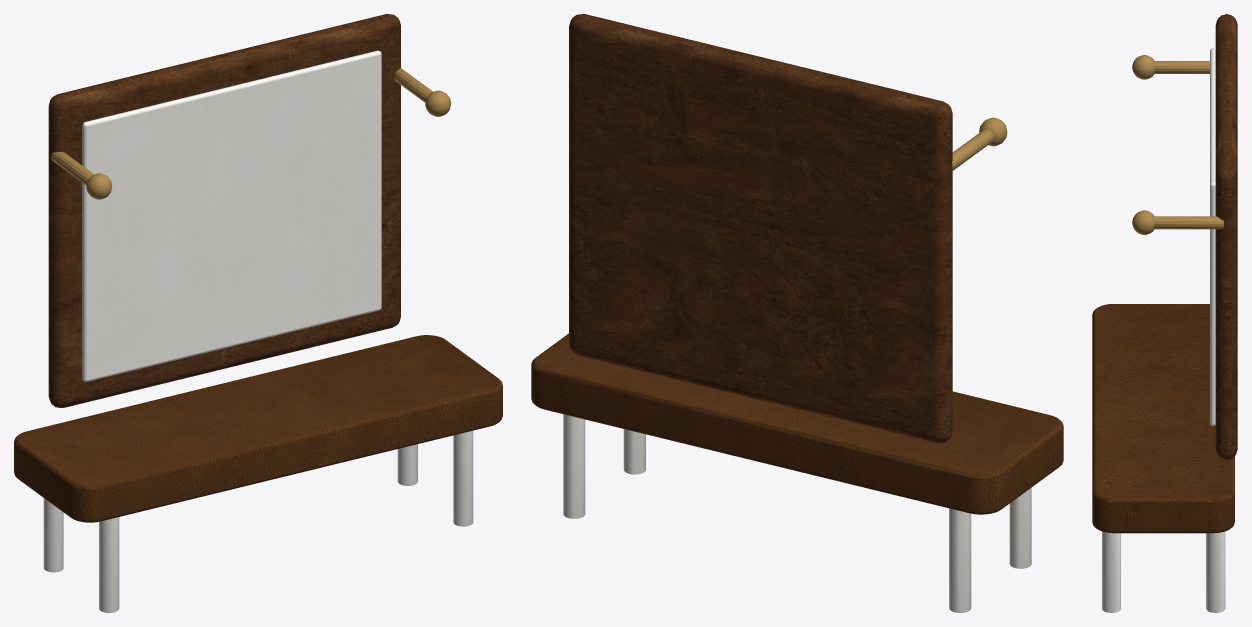
File: willow_fitting_bench.glb
3 renders of one model, left to right at view 1: azimuth 30°, elevation 25°; view 2: azimuth 150°, elevation 25°; view 3: azimuth 270°, elevation 25°, orthographic. The views are drawn at different scales.
Parts seen in each view (by area): view 1: willow_fitting_bench_willow_blackened_steel_pbr, willow_fitting_bench_willow_brown_leather_pbr, willow_fitting_bench_willow_dark_oak_pbr, willow_fitting_bench_willow_aged_brass_pbr; view 2: willow_fitting_bench_willow_dark_oak_pbr, willow_fitting_bench_willow_brown_leather_pbr, willow_fitting_bench_willow_blackened_steel_pbr, willow_fitting_bench_willow_aged_brass_pbr; view 3: willow_fitting_bench_willow_brown_leather_pbr, willow_fitting_bench_willow_dark_oak_pbr, willow_fitting_bench_willow_blackened_steel_pbr, willow_fitting_bench_willow_aged_brass_pbr.
Part boxes in pixels (x1=…): willow_fitting_bench_willow_blackened_steel_pbr: x1=43, y1=50, x2=473, y2=612; willow_fitting_bench_willow_brown_leather_pbr: x1=14, y1=335, x2=502, y2=522; willow_fitting_bench_willow_dark_oak_pbr: x1=48, y1=14, x2=400, y2=407; willow_fitting_bench_willow_aged_brass_pbr: x1=51, y1=68, x2=451, y2=199; willow_fitting_bench_willow_dark_oak_pbr: x1=569, y1=14, x2=952, y2=443; willow_fitting_bench_willow_brown_leather_pbr: x1=531, y1=333, x2=1063, y2=514; willow_fitting_bench_willow_blackened_steel_pbr: x1=563, y1=414, x2=1031, y2=612; willow_fitting_bench_willow_aged_brass_pbr: x1=952, y1=117, x2=1007, y2=171; willow_fitting_bench_willow_brown_leather_pbr: x1=1092, y1=304, x2=1234, y2=533; willow_fitting_bench_willow_dark_oak_pbr: x1=1215, y1=14, x2=1237, y2=459; willow_fitting_bench_willow_blackened_steel_pbr: x1=1102, y1=48, x2=1225, y2=612; willow_fitting_bench_willow_aged_brass_pbr: x1=1132, y1=55, x2=1223, y2=234.
Size of the model in its own units: 1.7 by 1.76 by 0.53.
4 materials, 3 textured.
